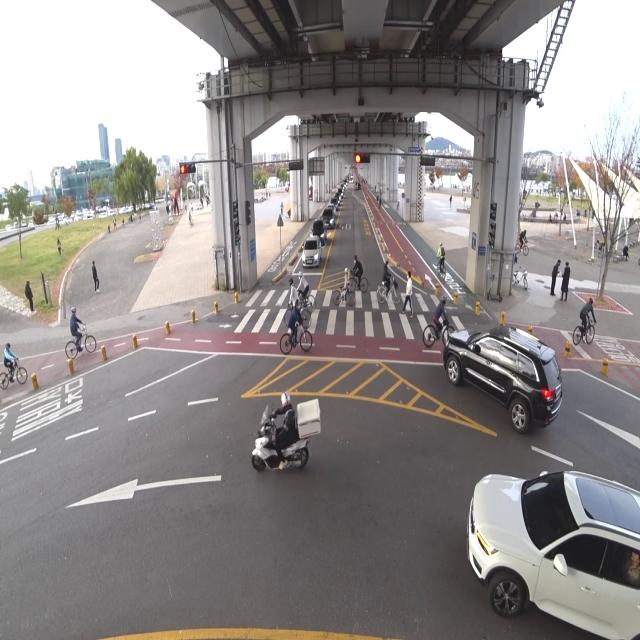Car: (459, 450, 640, 640), (438, 303, 568, 440), (300, 232, 322, 267), (310, 216, 327, 243), (322, 207, 336, 231), (329, 202, 336, 216), (332, 196, 338, 208)
Motorcycle: (250, 389, 319, 475)
